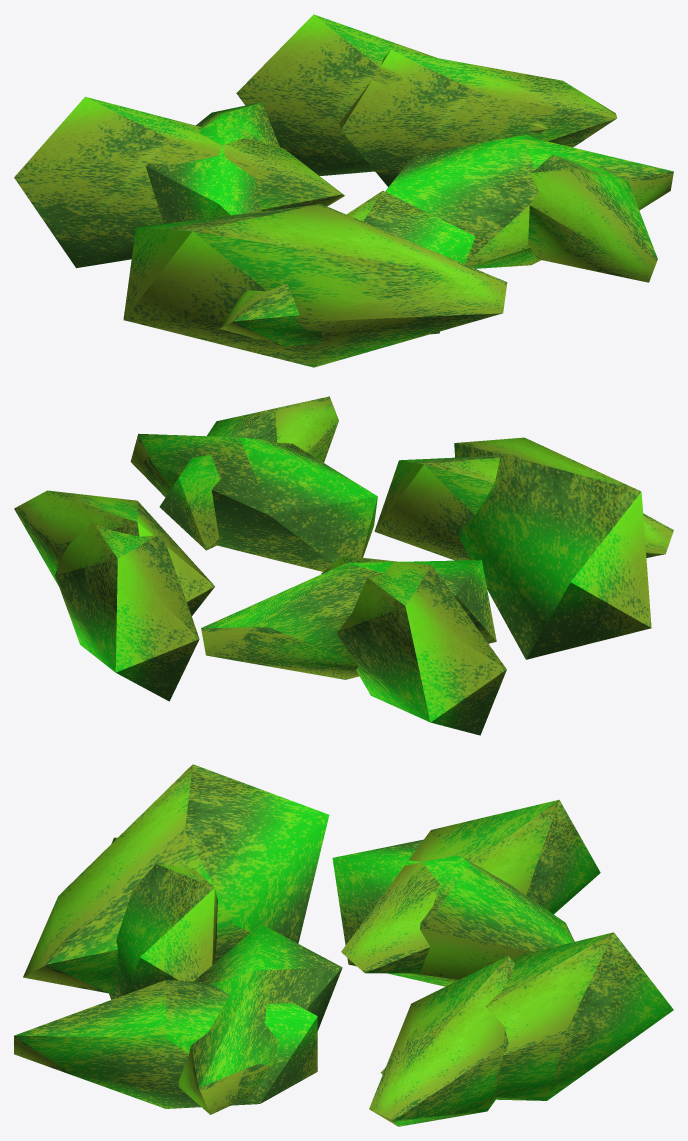
File: static.fbx
3 renders of one model, top to bottom at view 1: azimuth 30°, elevation 25°; view 2: azimuth 150°, elevation 25°; view 3: azimuth 270°, elevation 25°, orthographic. The views are drawn at different scales.
Visible parts, largest first — view 1: Sphere_4, Sphere_16, Sphere_10, Sphere, Sphere_14, Sphere_6, Sphere_12, Sphere_8; view 2: Sphere_4, Sphere, Sphere_16, Sphere_14, Sphere_12, Sphere_8, Sphere_6, Sphere_10; view 3: Sphere_4, Sphere_6, Sphere_14, Sphere_16, Sphere_12, Sphere_10, Sphere, Sphere_8.
Boxes of the visible parts, x1=… form: Sphere_4: x1=123, y1=204, x2=507, y2=367; Sphere_16: x1=14, y1=96, x2=344, y2=268; Sphere_10: x1=339, y1=50, x2=616, y2=187; Sphere: x1=385, y1=135, x2=673, y2=268; Sphere_14: x1=236, y1=14, x2=547, y2=175; Sphere_6: x1=524, y1=134, x2=657, y2=282; Sphere_12: x1=145, y1=102, x2=279, y2=223; Sphere_8: x1=219, y1=191, x2=475, y2=346; Sphere_4: x1=454, y1=437, x2=651, y2=659; Sphere: x1=130, y1=433, x2=377, y2=571; Sphere_16: x1=321, y1=556, x2=506, y2=735; Sphere_14: x1=55, y1=522, x2=199, y2=701; Sphere_12: x1=201, y1=560, x2=496, y2=679; Sphere_8: x1=374, y1=456, x2=673, y2=560; Sphere_6: x1=159, y1=396, x2=338, y2=550; Sphere_10: x1=14, y1=490, x2=214, y2=615; Sphere_4: x1=23, y1=764, x2=329, y2=993; Sphere_6: x1=14, y1=980, x2=317, y2=1108; Sphere_14: x1=380, y1=932, x2=673, y2=1100; Sphere_16: x1=341, y1=799, x2=600, y2=973; Sphere_12: x1=332, y1=839, x2=574, y2=986; Sphere_10: x1=369, y1=955, x2=514, y2=1126; Sphere: x1=178, y1=924, x2=342, y2=1114; Sphere_8: x1=109, y1=837, x2=217, y2=999.
Size of the model in its own units: 99.53 by 24.74 by 93.93.
Materials: 1 (1 with a texture image).
